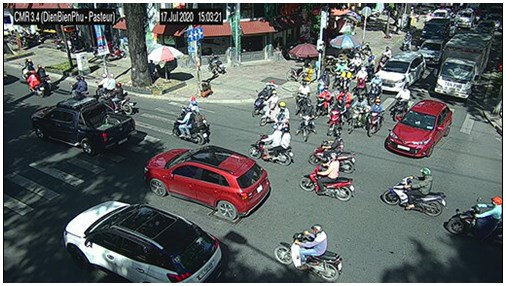ban_tai: (32, 96, 135, 155)
xe_hoi: (63, 200, 223, 284), (143, 145, 271, 221), (386, 99, 462, 158), (374, 53, 427, 91), (455, 8, 475, 28)
xe_may: (274, 222, 343, 284), (383, 167, 447, 218), (446, 195, 502, 243), (299, 153, 355, 201), (309, 131, 356, 174), (248, 123, 294, 166), (172, 105, 208, 144), (348, 94, 370, 134), (253, 80, 275, 120), (109, 82, 135, 115), (298, 98, 316, 144), (260, 90, 280, 126), (328, 96, 346, 136), (394, 84, 410, 121), (368, 98, 383, 137), (316, 85, 332, 119), (294, 80, 310, 113), (96, 72, 116, 97), (37, 64, 54, 93), (27, 70, 45, 97), (276, 103, 291, 132), (355, 67, 369, 97), (71, 76, 89, 98), (21, 58, 35, 86), (379, 45, 392, 70), (370, 74, 383, 98), (317, 69, 330, 93), (340, 69, 352, 93), (402, 30, 413, 52), (350, 52, 361, 67), (367, 53, 376, 71)
xe_tai: (435, 32, 491, 99), (421, 18, 451, 40)
xe_taxi: (419, 35, 445, 63)
